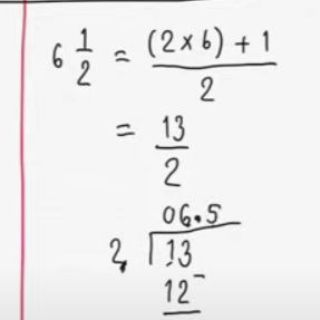.: (191, 210, 204, 225)
0: (162, 205, 176, 225)
1: (162, 278, 173, 305), (165, 238, 175, 262), (162, 115, 171, 139), (80, 26, 89, 49), (263, 30, 270, 52)
2: (163, 156, 182, 189), (108, 237, 127, 264), (199, 76, 216, 102), (76, 59, 92, 86), (160, 29, 176, 54), (177, 279, 190, 305)
3: (177, 239, 193, 268), (173, 114, 185, 142)
5: (206, 203, 221, 225)
6: (178, 203, 192, 228), (52, 42, 64, 69), (201, 28, 212, 51)
